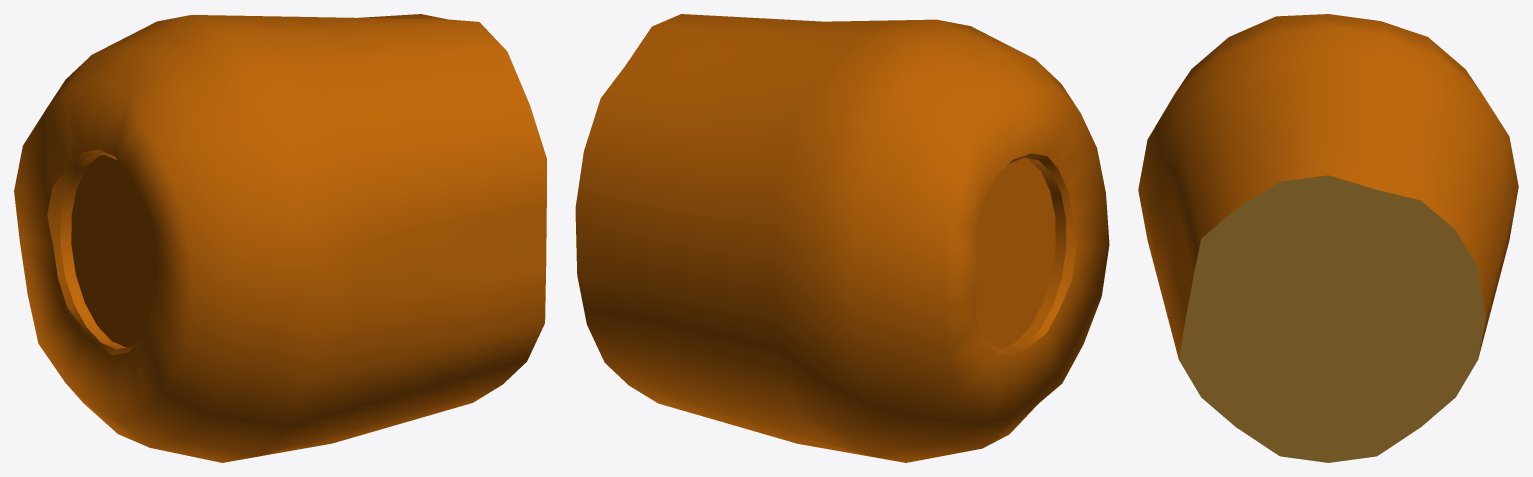
The model's file is mesh_Carrot_Stage09.fbx.
3 views of the same model, side by side, from view 1: azimuth 30°, elevation 25°; view 2: azimuth 150°, elevation 25°; view 3: azimuth 270°, elevation 25° (orthographic). The views are drawn at different scales.
Parts seen in each view (by area): view 1: mesh_Carrot_Stage09; view 2: mesh_Carrot_Stage09; view 3: mesh_Carrot_Stage09.
Part boxes in pixels (x1,y1,x2,y2): mesh_Carrot_Stage09: (14, 14, 546, 462); mesh_Carrot_Stage09: (575, 14, 1109, 462); mesh_Carrot_Stage09: (1138, 14, 1518, 462).
Bounding box in the file's own units: 0.051 × 0.0519 × 0.051.
